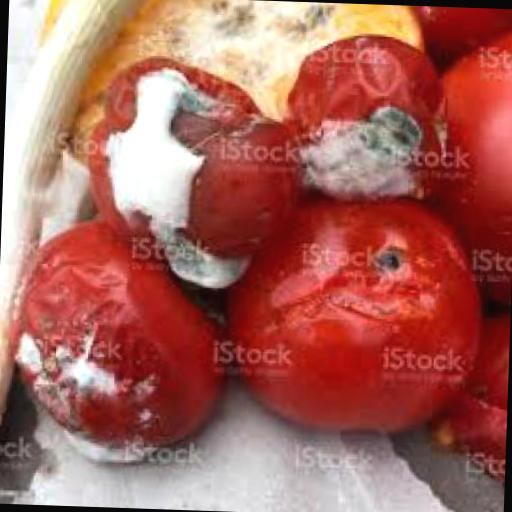biodegradable: (34, 0, 424, 181), (216, 184, 480, 436), (4, 212, 234, 470), (83, 51, 312, 286), (280, 28, 449, 204), (412, 17, 512, 300), (420, 298, 509, 476), (409, 5, 512, 64)
